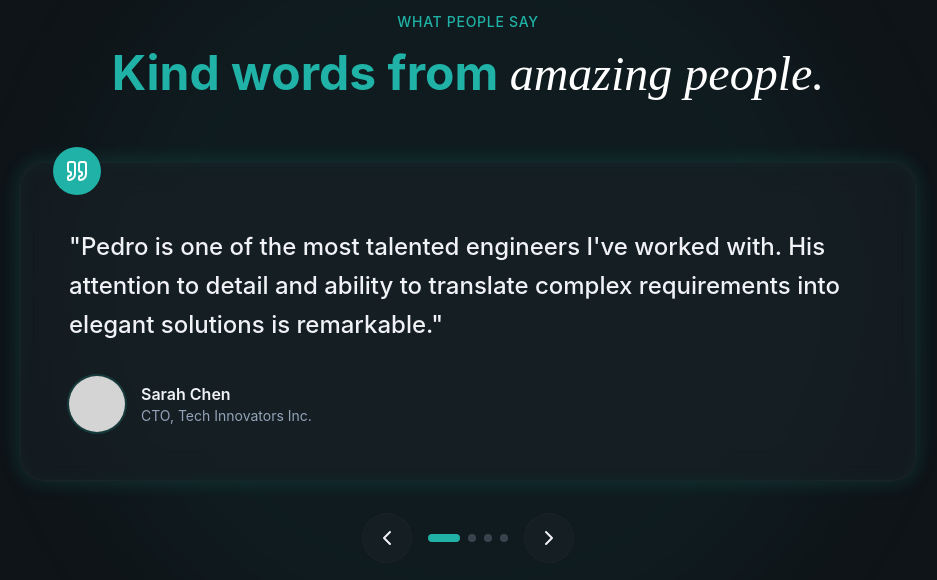
Test case: Testimonials section › navigates backward and wraps around when previous button is clicked
Click the 1st button.
click(387, 538)  # box [362,513,412,563]
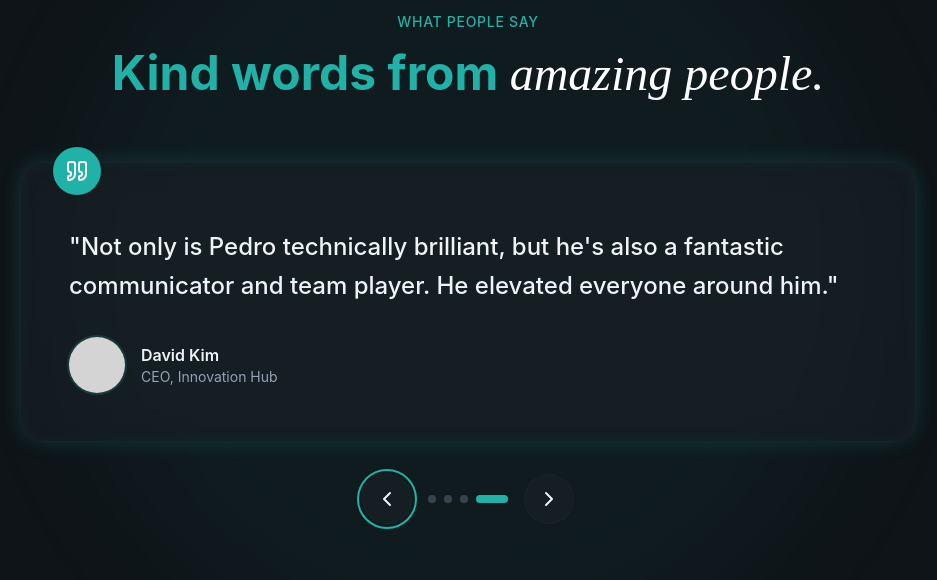
Result: the text "David Kim" is shown at [141,345,219,365]
